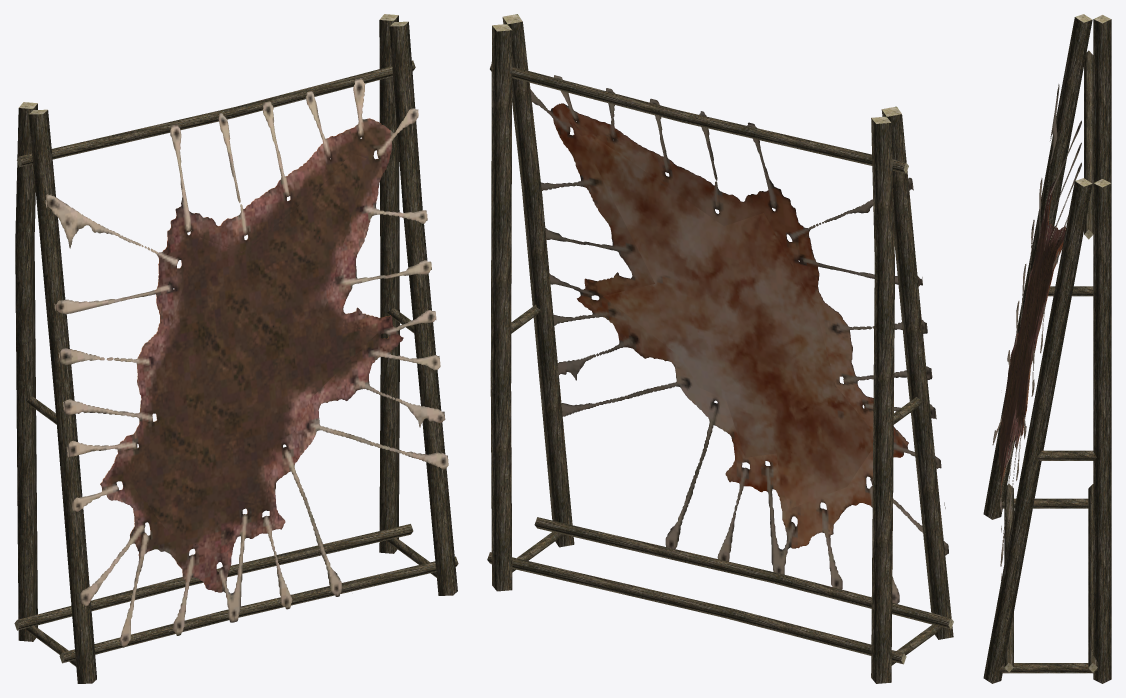
Rendered from thm_dant_hide_tanning_s01_l1.fbx.
3 renders of one model, left to right at view 1: azimuth 30°, elevation 25°; view 2: azimuth 150°, elevation 25°; view 3: azimuth 270°, elevation 25°, orthographic. The views are drawn at different scales.
Visible parts, largest first — view 1: mesh_node; view 2: mesh_node; view 3: mesh_node.
Boxes of the visible parts, left/top/right/bottom form: mesh_node: left=14, top=14, right=458, bottom=683; mesh_node: left=487, top=14, right=953, bottom=683; mesh_node: left=983, top=14, right=1111, bottom=683.
Bounding box in the file's own units: 1.39 × 1.81 × 0.4214.
